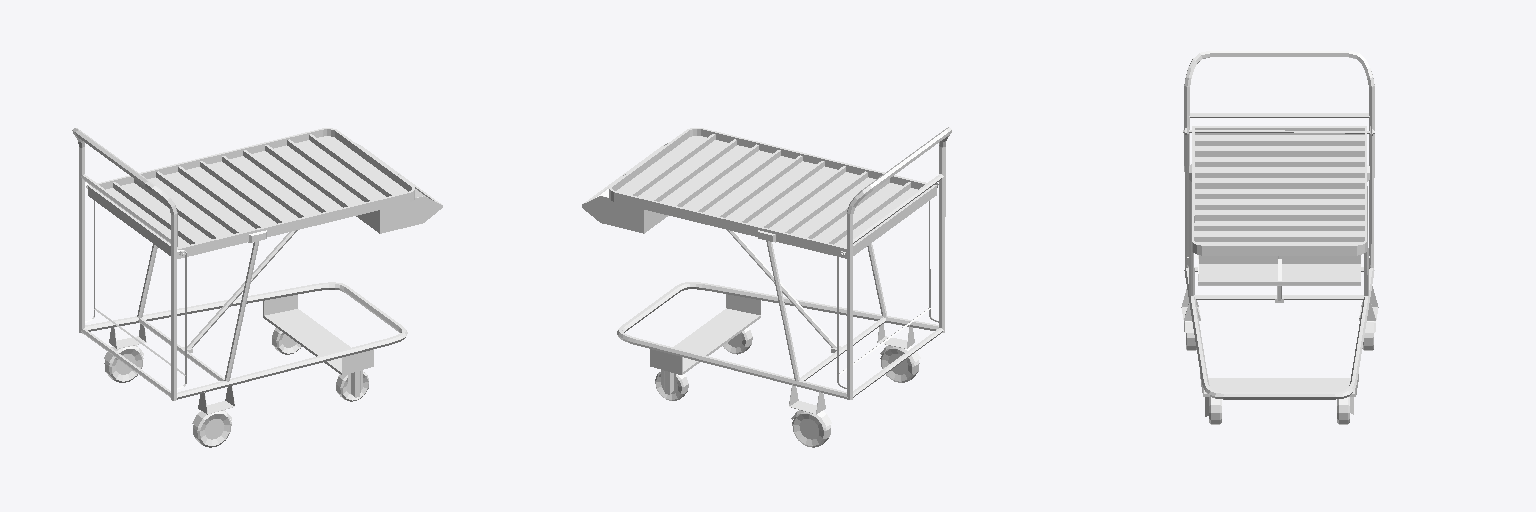
The model's file is trolley.obj.
The picture shows the model from 3 angles: view 1: azimuth 30°, elevation 25°; view 2: azimuth 150°, elevation 25°; view 3: azimuth 270°, elevation 25°; orthographic projection.
Parts seen in each view (by area): view 1: Object02, trolley_00; view 2: Object02, trolley_00; view 3: Object02, trolley_00.
Part boxes in pixels (x1,y1,x2,y2): Object02: (86,128,414,447); trolley_00: (72,128,442,414); Object02: (609,128,938,447); trolley_00: (582,127,951,414); Object02: (1183,126,1375,424); trolley_00: (1181,51,1378,399).
Bounding box in the file's own units: 65.47 × 58.18 × 38.33.